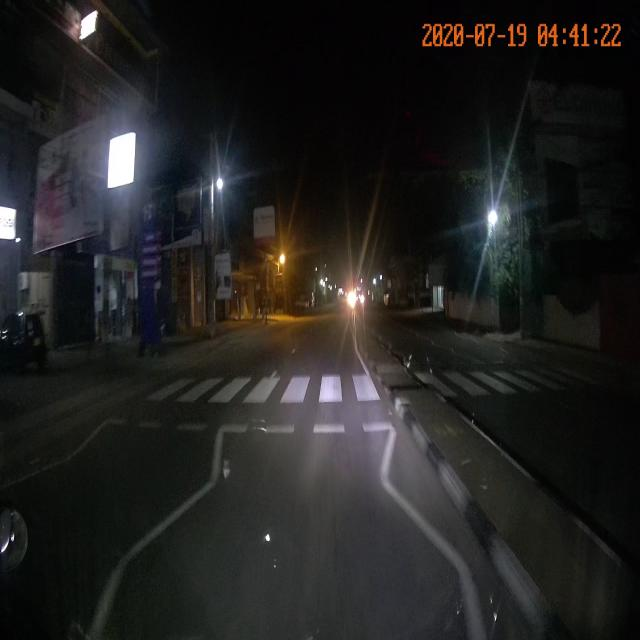Crosswalk: (92, 357, 615, 441)
